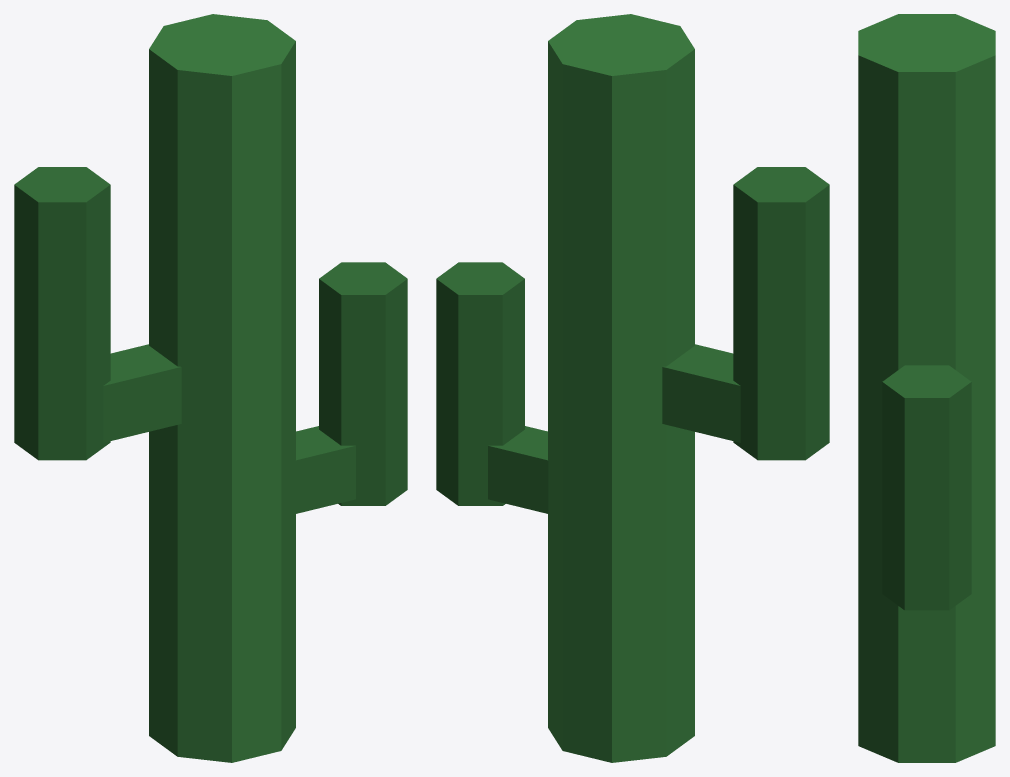
The model's file is cactus.obj.
The picture shows the model from 3 angles, left to right: view 1: azimuth 30°, elevation 25°; view 2: azimuth 150°, elevation 25°; view 3: azimuth 270°, elevation 25°; orthographic projection.
Size of the model in its own units: 1.16 by 2.05 by 0.37.
